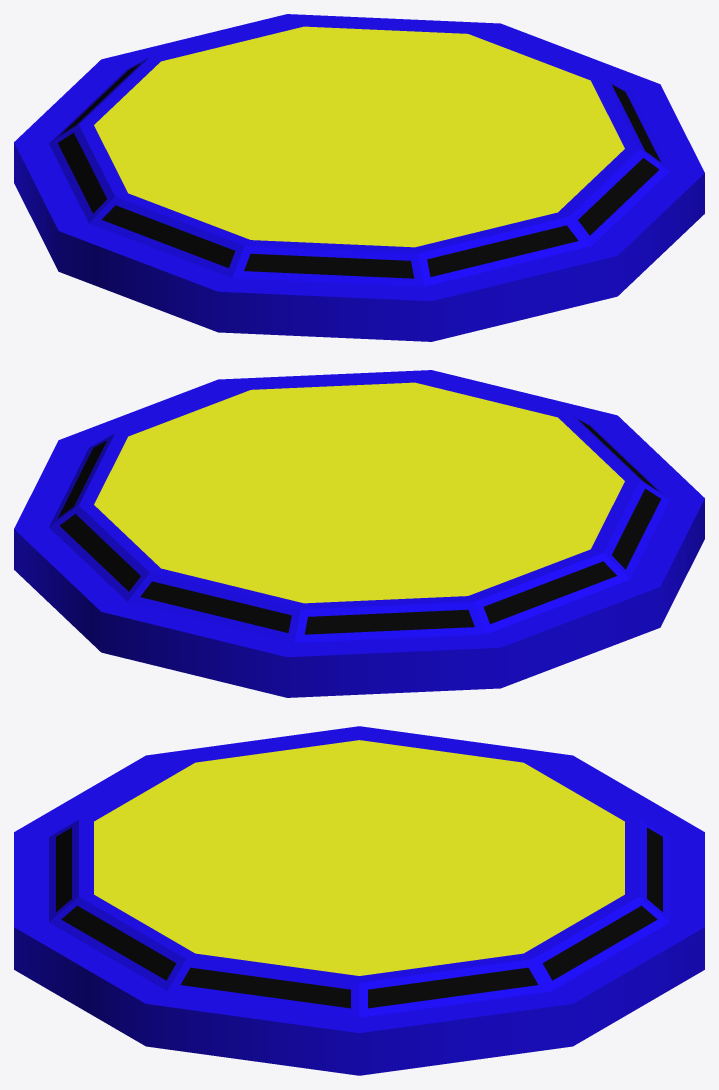
File: Portal2.FBX
3 views of the same model, one above another, from view 1: azimuth 30°, elevation 25°; view 2: azimuth 150°, elevation 25°; view 3: azimuth 270°, elevation 25° (orthographic). The views are drawn at different scales.
Parts seen in each view (by area): view 1: Portal, Panel; view 2: Portal, Panel; view 3: Portal, Panel.
Boxes of the visible parts, left/top/right/bottom form: Portal: left=14, top=14, right=704, bottom=341; Panel: left=94, top=26, right=624, bottom=247; Portal: left=14, top=370, right=704, bottom=697; Panel: left=94, top=382, right=624, bottom=603; Portal: left=14, top=726, right=704, bottom=1075; Panel: left=94, top=740, right=624, bottom=975.
Size of the model in its own units: 41.23 by 4.02 by 39.21.
